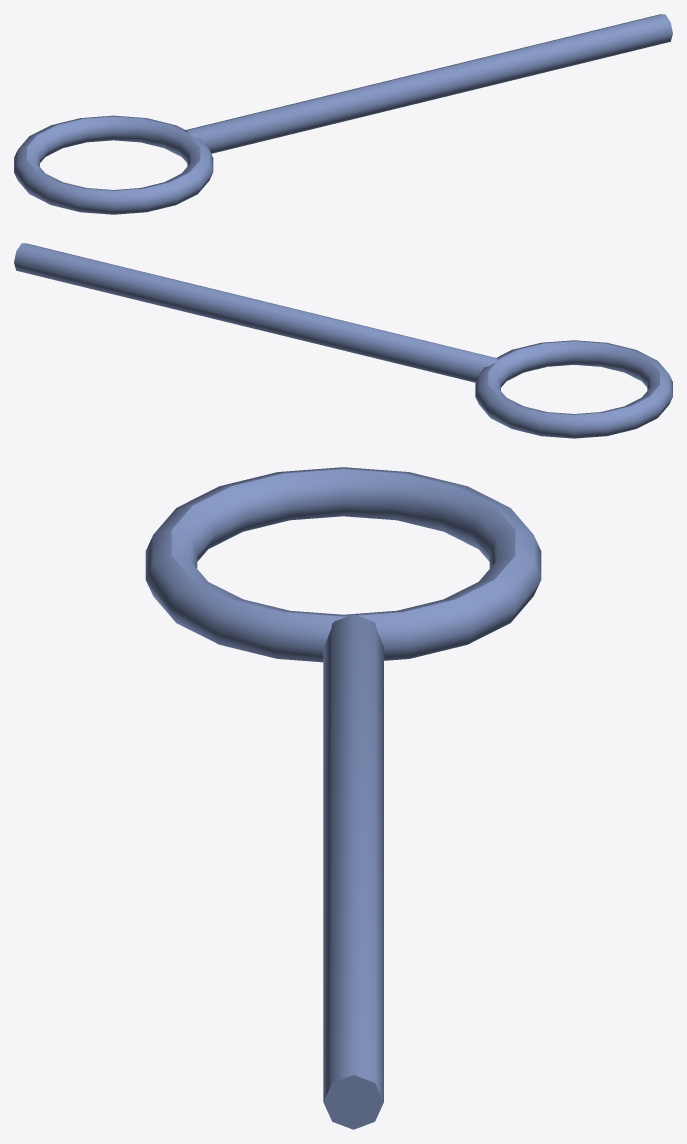
File: LouDao-10.FBX
3 views of the same model, one above another, from view 1: azimuth 30°, elevation 25°; view 2: azimuth 150°, elevation 25°; view 3: azimuth 270°, elevation 25° (orthographic). The views are drawn at different scales.
Visible parts, largest first — view 1: LouDao-10; view 2: LouDao-10; view 3: LouDao-10.
Boxes of the visible parts, box(x1,y1,x2,y2) form: LouDao-10: box(14, 14, 672, 214); LouDao-10: box(14, 243, 672, 438); LouDao-10: box(145, 467, 541, 1129).
Bounding box in the file's own units: 34.75 × 1.43 × 9.34.
